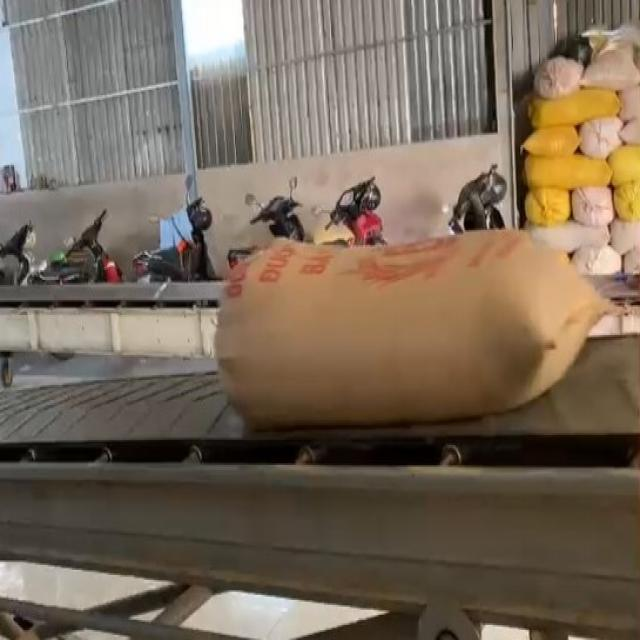gunny_bag: (217, 230, 607, 429)
